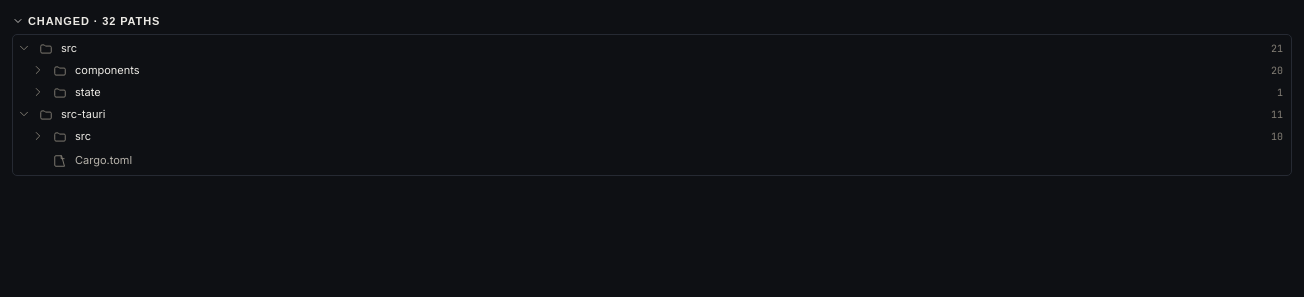
Test: PathListSection › GRU-FR-HEQB: a folder row opens and closes its folder by pointer and by keyboard
Click the button named "components, 20 paths".
click(107, 70)  # box [13,59,1291,81]
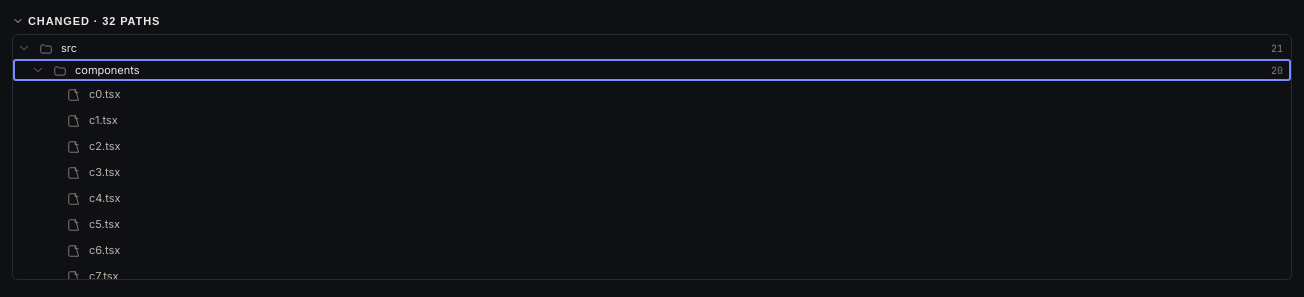
expect the button named "components, 20 paths" is expanded: met, box [13,59,1291,81]
Type keys " "
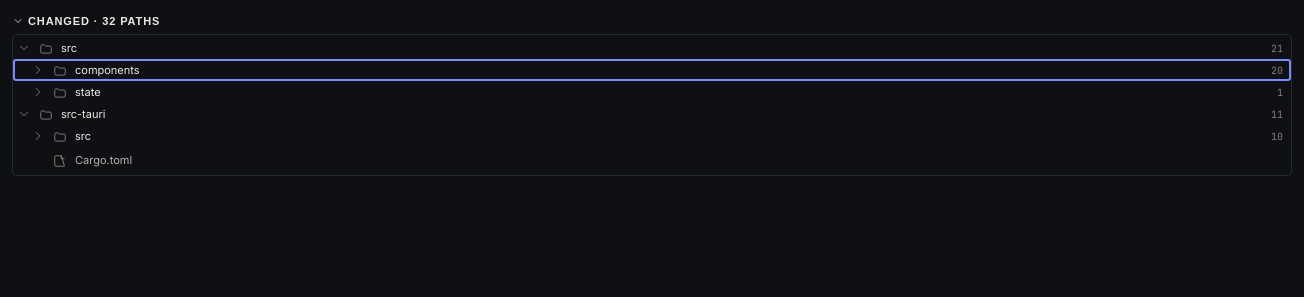
expect the button named "components, 20 paths" is collapsed: met, box [13,59,1291,81]
